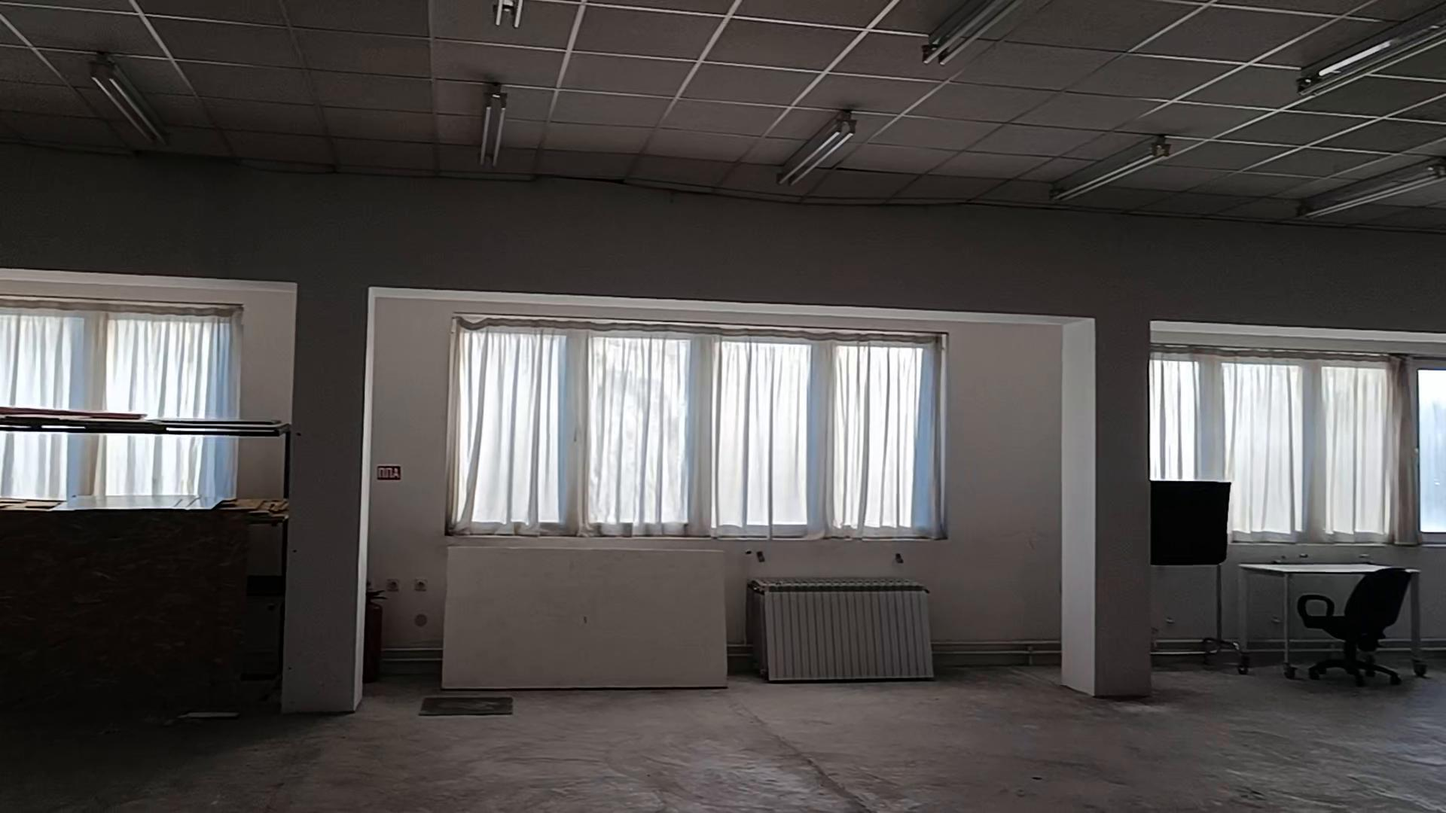ceiling: (0, 0, 1445, 231)
floor: (0, 667, 1445, 812)
wall: (0, 159, 1442, 711), (714, 331, 1052, 642), (369, 315, 441, 651)
